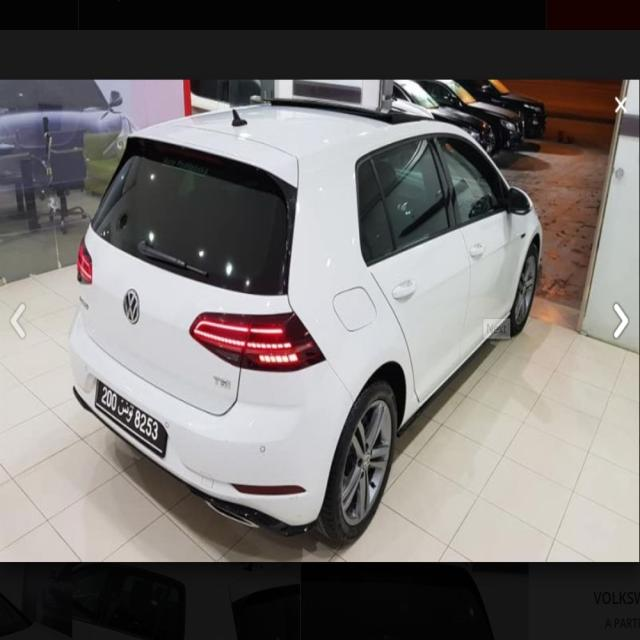LP: (93, 376, 166, 456)
